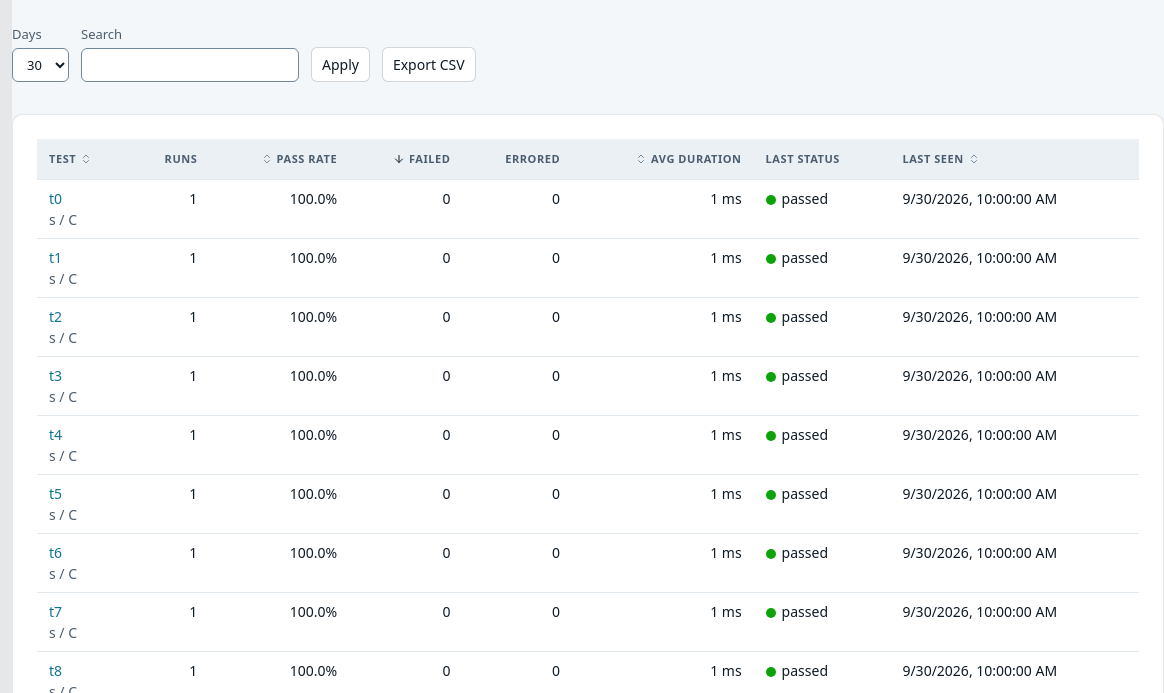
Test: Tests › changing a filter updates the URL, resets the page, and leaves out defaults
expect the link "t0" is shown: met, box 49,189 -> 62,208
Click the button "Avg duration".
click(688, 159)  # box 633,147 -> 744,171
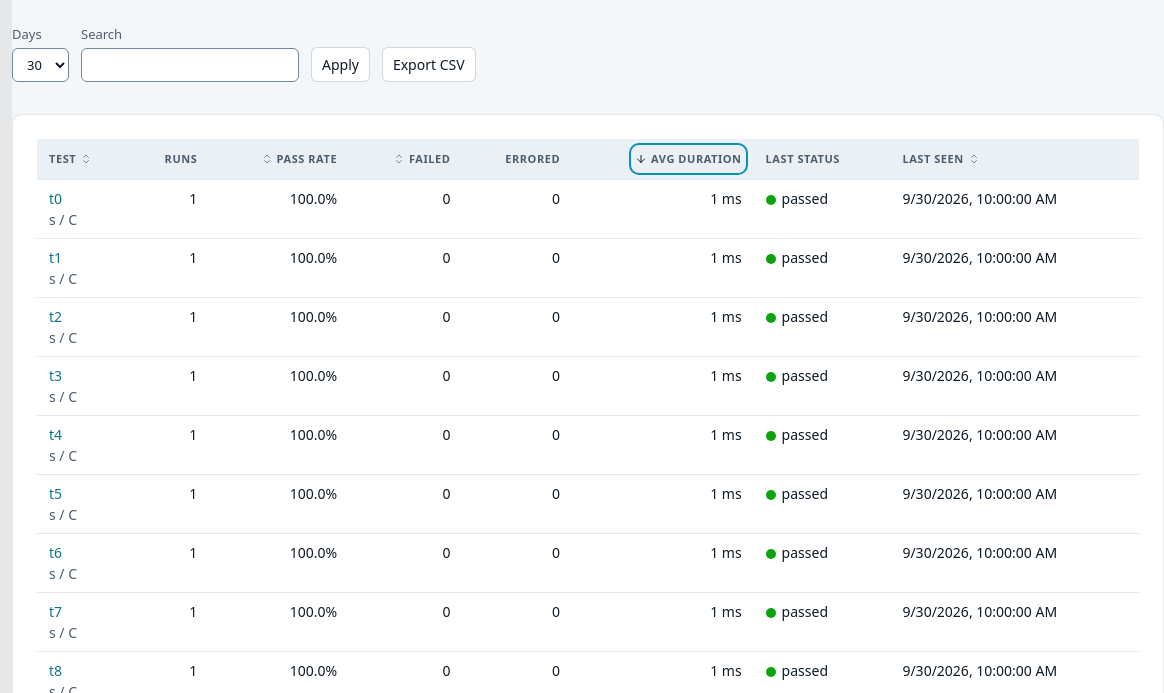
Click the button "Failed".
click(422, 159)  # box 391,147 -> 452,171
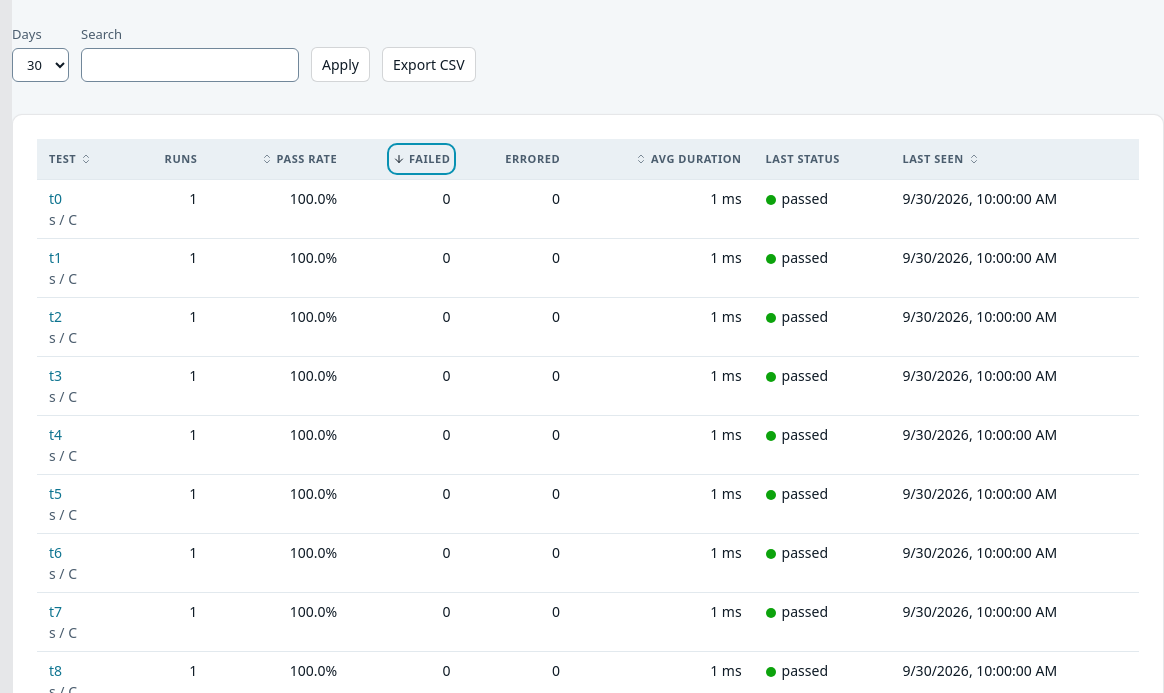
Click the button "Failed".
click(422, 159)  # box 391,147 -> 452,171
(page scrolled)
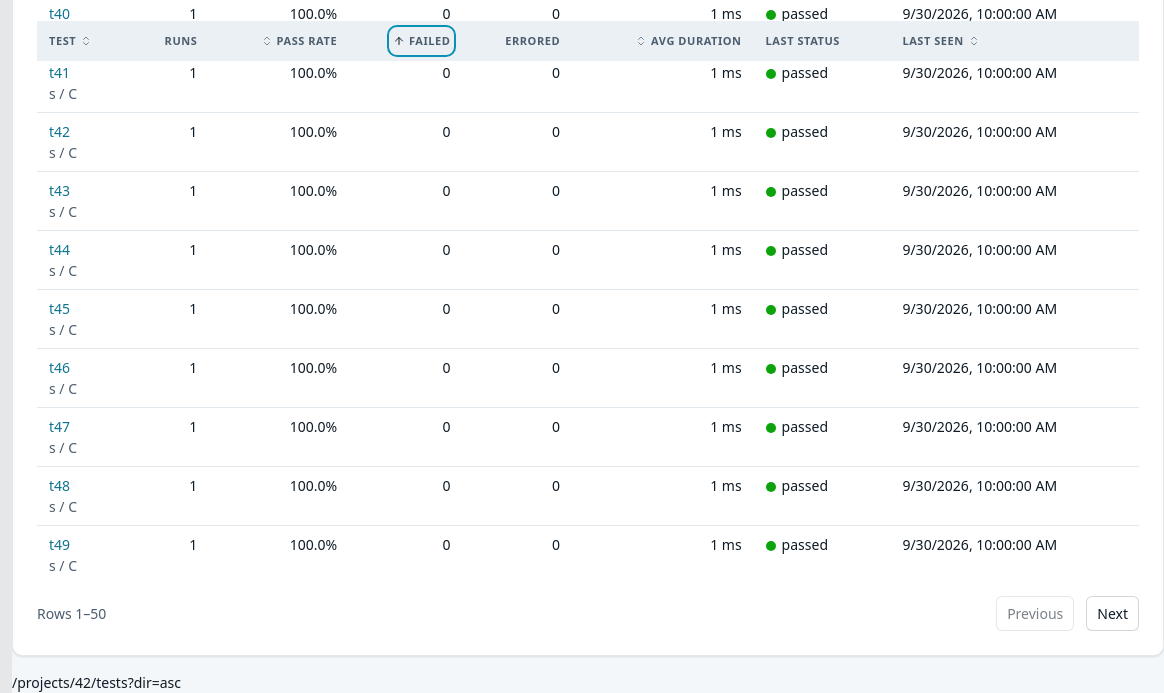
expect the text with test id "where" reads "/projects/42/tests?dir=asc": met, box 12,673 -> 181,692
